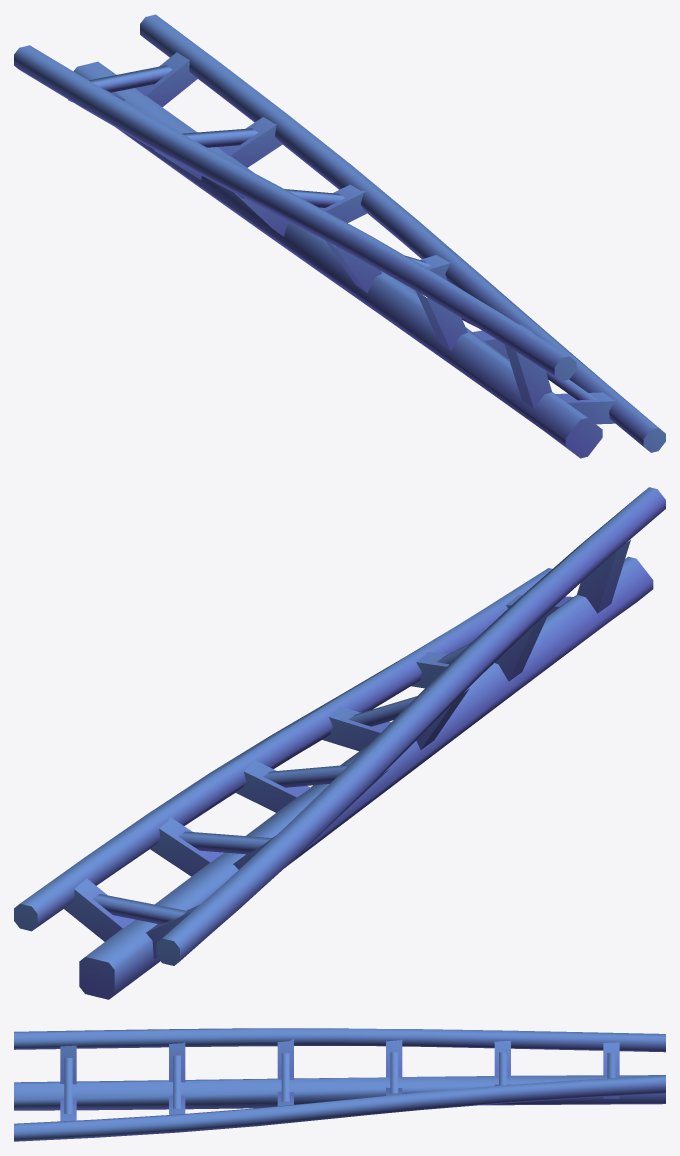
Rendered from kenney-coaster-coaster-steel-straight-skew-left.glb.
3 renders of one model, top to bottom at view 1: azimuth 30°, elevation 25°; view 2: azimuth 150°, elevation 25°; view 3: azimuth 270°, elevation 25°, orthographic. The views are drawn at different scales.
Visible parts, largest first — view 1: coaster-steel-straight-skew-left; view 2: coaster-steel-straight-skew-left; view 3: coaster-steel-straight-skew-left.
Part boxes in pixels (box(x1,y1,x2,y2)): coaster-steel-straight-skew-left: box(14, 14, 665, 458); coaster-steel-straight-skew-left: box(14, 487, 665, 999); coaster-steel-straight-skew-left: box(14, 1028, 665, 1141).
Bounding box in the file's own units: 0.7945 × 0.5303 × 4.
1 material, 1 textured.
